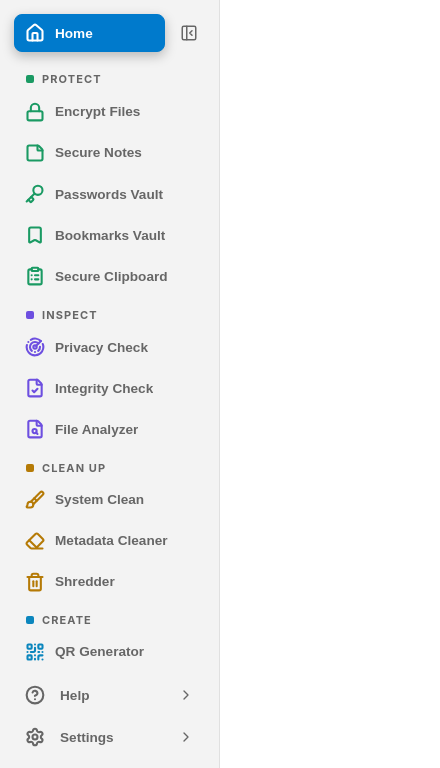
Test case: Sidebar - settings menu › is closed until Settings is clicked, then toggles
Expected: the text "Log Out" is not shown
Click the button "Settings" at (110,737), box [14, 720, 205, 754]
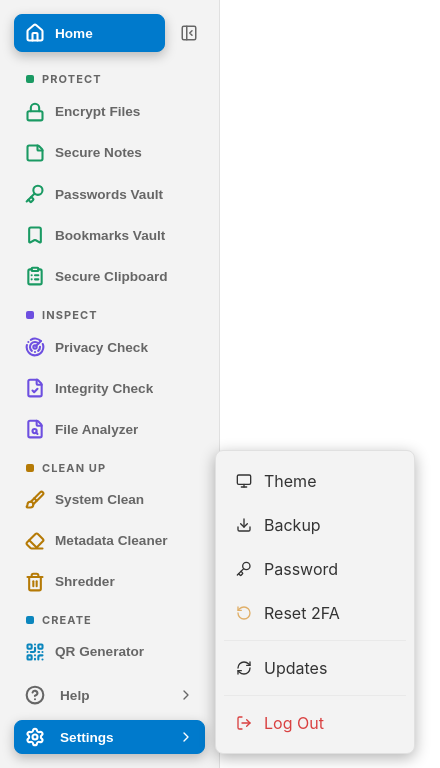
Now the button "Log Out" is shown, box [224, 701, 406, 745]
Click the button "Settings" at (110,737), box [14, 720, 205, 754]
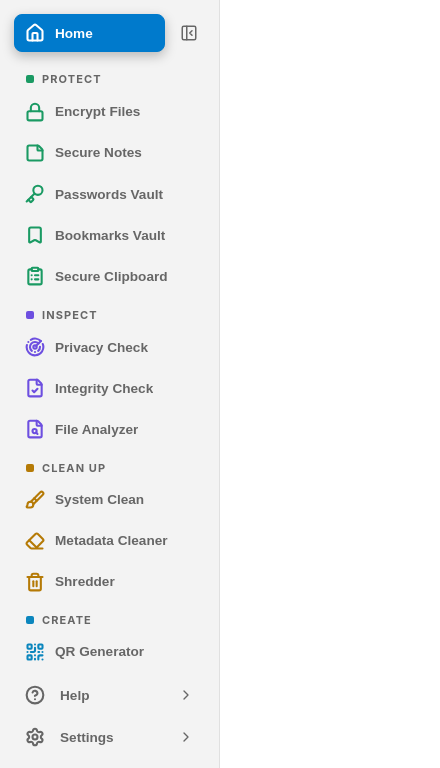
Now the button "Log Out" is gone
